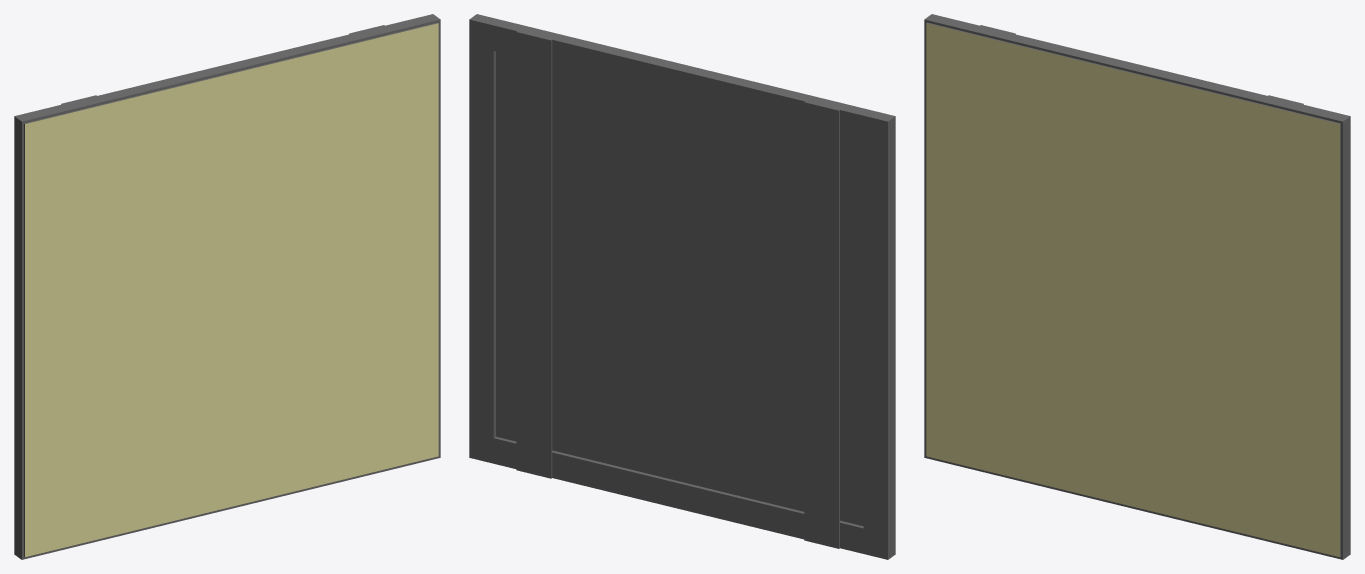
File: Header Square.glb
3 views of the same model, side by side, from view 1: azimuth 30°, elevation 25°; view 2: azimuth 150°, elevation 25°; view 3: azimuth 330°, elevation 25° (orthographic).
Visible parts, largest first — view 1: Cadre.001; view 2: Cadre.001; view 3: Cadre.001.
Boxes of the visible parts, x1,y1,x2,y2 form: Cadre.001: (14, 14, 440, 559); Cadre.001: (469, 14, 895, 559); Cadre.001: (924, 14, 1350, 559).
Size of the model in its own units: 0.4798 by 0.4798 by 0.018.
